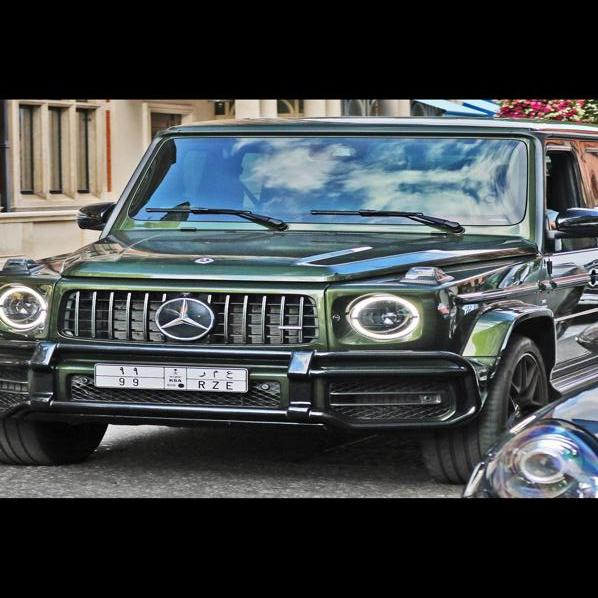numberplate: (99, 364, 245, 393)
